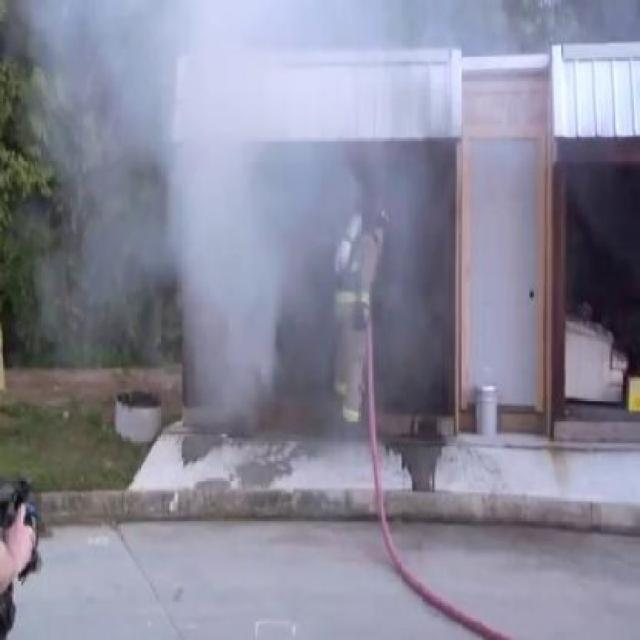smoke: (169, 136, 297, 418)
